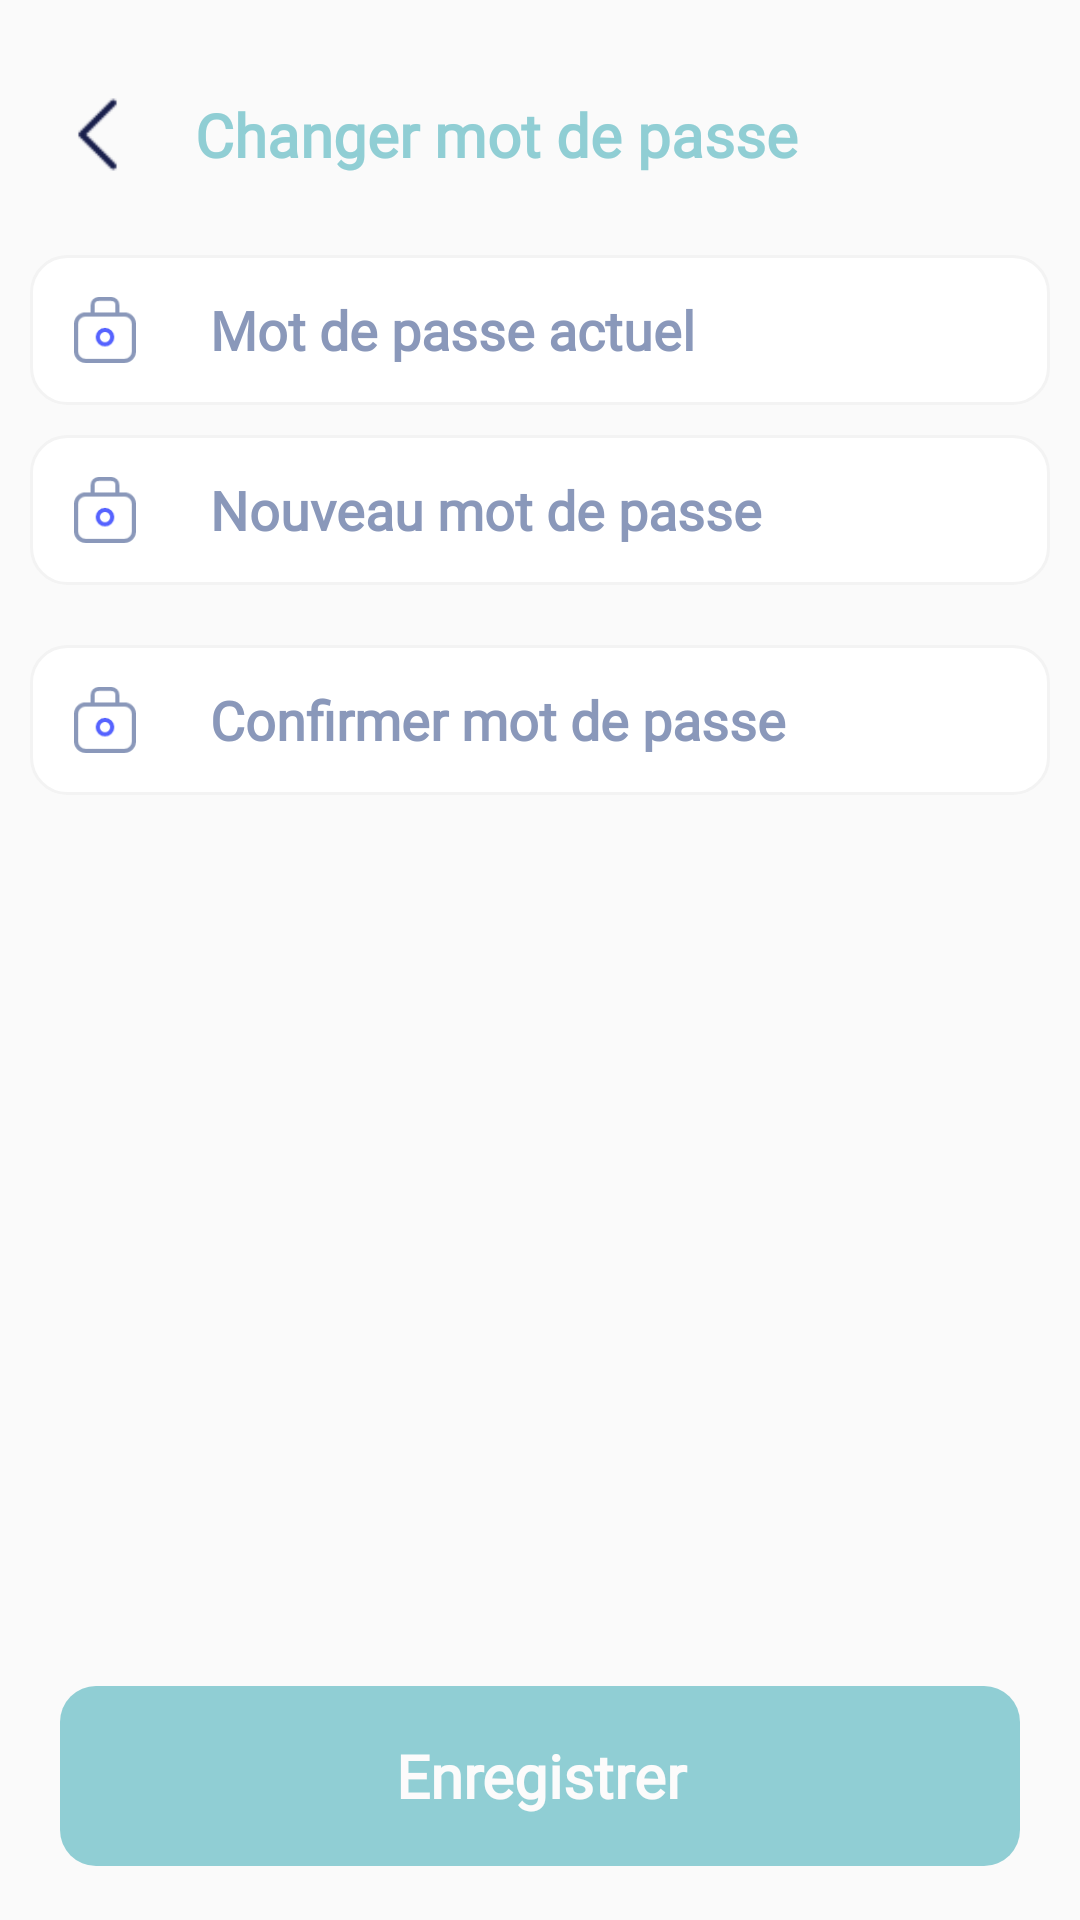

Icons on this 1080 × 1920 Android screen, each with the point to tap as [x,y]:
blackback: [97,134]
lock: [105,330], [105,510], [105,720]
